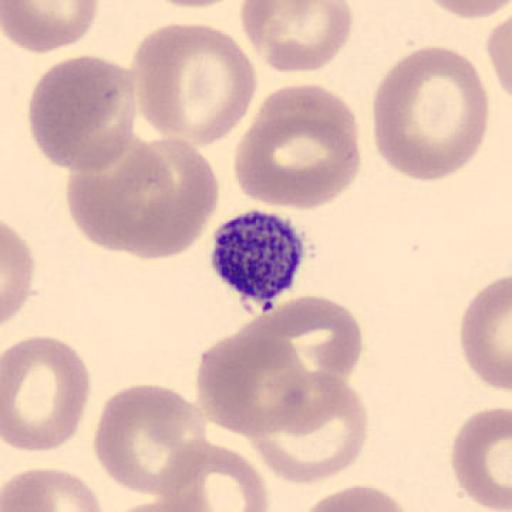Platelet: (207, 207, 309, 315)
RBC: (195, 293, 364, 429), (64, 134, 219, 262), (234, 81, 362, 212), (129, 21, 258, 148), (372, 44, 490, 182), (247, 297, 365, 428), (226, 294, 364, 403), (110, 134, 220, 262), (26, 52, 139, 174), (195, 319, 310, 438), (92, 383, 210, 497), (252, 372, 370, 486), (2, 334, 92, 454), (155, 437, 270, 512), (240, 0, 354, 75), (260, 369, 360, 438), (449, 406, 512, 512), (459, 274, 512, 394), (2, 0, 100, 55), (2, 467, 106, 512), (2, 219, 36, 325), (299, 482, 418, 512), (105, 481, 216, 512), (486, 7, 512, 104), (101, 495, 212, 512), (426, 0, 512, 19), (147, 0, 241, 8)
